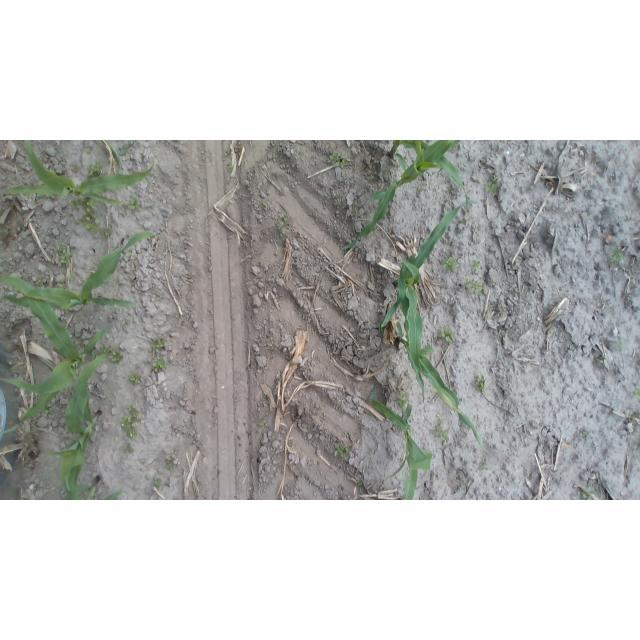Maize: (373, 197, 468, 407), (391, 260, 490, 448), (0, 283, 112, 437), (340, 140, 470, 250), (4, 228, 157, 313), (1, 141, 160, 207), (48, 350, 108, 500), (367, 381, 438, 499), (388, 141, 468, 204), (73, 479, 130, 500), (100, 140, 125, 176)
Weeds: (77, 198, 103, 234), (120, 403, 141, 440), (464, 278, 485, 295), (150, 335, 168, 354), (328, 152, 348, 169), (486, 173, 501, 195), (439, 327, 456, 344), (442, 256, 460, 272), (57, 247, 72, 266), (334, 443, 351, 459), (119, 140, 136, 156), (610, 246, 625, 264), (151, 358, 169, 372), (474, 375, 487, 393), (87, 162, 103, 176), (436, 428, 451, 442), (398, 392, 410, 409), (165, 455, 177, 470), (129, 372, 144, 384), (580, 489, 596, 500), (120, 445, 136, 455), (110, 352, 123, 364), (277, 214, 289, 227), (130, 197, 141, 211), (446, 140, 458, 152), (377, 319, 386, 334), (70, 199, 82, 210), (471, 259, 481, 272), (612, 342, 624, 352), (100, 226, 112, 236), (67, 270, 77, 282), (273, 376, 283, 387), (156, 291, 167, 301), (34, 278, 46, 287), (354, 202, 363, 214), (153, 477, 163, 487), (479, 461, 489, 471), (56, 280, 68, 288), (259, 419, 268, 429), (360, 163, 369, 173), (44, 407, 53, 417), (630, 415, 638, 426), (580, 430, 589, 439), (509, 210, 517, 220), (262, 201, 270, 211), (630, 389, 638, 399), (3, 226, 10, 237), (6, 344, 14, 353), (355, 478, 364, 486), (465, 215, 473, 223), (227, 162, 234, 171), (547, 327, 554, 336), (124, 319, 132, 326), (102, 345, 110, 352), (73, 163, 81, 170), (85, 147, 93, 154), (437, 417, 445, 424), (130, 252, 137, 260), (149, 203, 156, 210), (158, 196, 166, 202), (288, 440, 293, 449)
